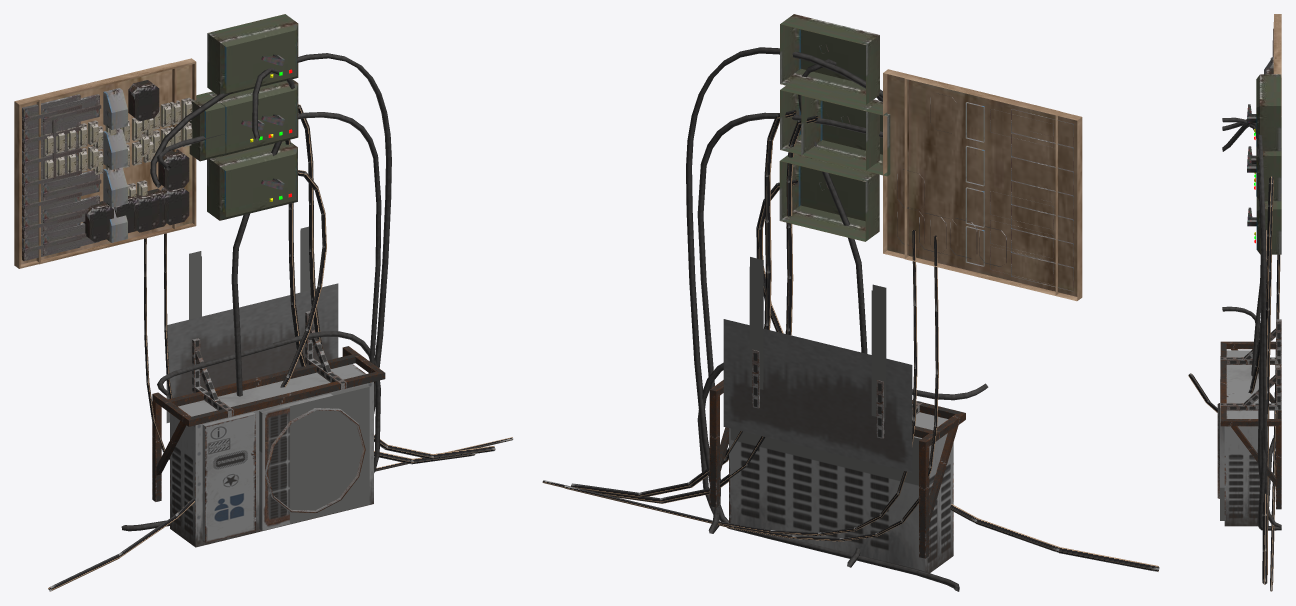
Rendered from weathered-parts.glb.
3 views of the same model, side by side, from view 1: azimuth 30°, elevation 25°; view 2: azimuth 150°, elevation 25°; view 3: azimuth 270°, elevation 25° (orthographic). The views are drawn at different scales.
Visible parts, largest first — view 1: meter_0, ac_0, meter_2, ac_8, ac_1, ac_4, acwire_2, ac_5, acwire_0, meter_1, acwire_1, acwire_3 (+1 smaller); view 2: meter_2, meter_0, ac_0, ac_1, acwire_2, acwire_0, ac_9, acwire_1, acwire_3; view 3: meter_0, ac_0, acwire_2, ac_1, meter_2, acwire_0, acwire_3, acwire_1, ac_8, ac_4.
Part boxes in pixels (x1,y1,x2,y2): meter_0: (35, 14, 513, 591); ac_0: (152, 283, 385, 547); meter_2: (14, 63, 475, 464); ac_8: (195, 382, 373, 547); ac_1: (170, 236, 373, 547); ac_4: (205, 408, 360, 542); acwire_2: (121, 53, 391, 531); ac_5: (189, 228, 365, 542); acwire_0: (157, 112, 381, 373); meter_1: (43, 80, 159, 197); acwire_1: (231, 68, 294, 396); acwire_3: (157, 331, 380, 472); meter_2: (564, 75, 1082, 541); meter_0: (542, 14, 1159, 571); ac_0: (709, 319, 965, 558); ac_1: (729, 267, 953, 572); acwire_2: (686, 47, 959, 591); acwire_0: (697, 112, 882, 533); ac_9: (750, 257, 885, 412); acwire_1: (798, 59, 882, 567); acwire_3: (697, 362, 988, 533); meter_0: (1188, 22, 1281, 591); ac_0: (1220, 341, 1281, 526); acwire_2: (1222, 119, 1273, 525); ac_1: (1220, 319, 1281, 418); meter_2: (1247, 14, 1281, 582); acwire_0: (1222, 117, 1281, 528); acwire_3: (1222, 306, 1281, 530); acwire_1: (1222, 123, 1272, 472); ac_8: (1220, 379, 1224, 520); ac_4: (1217, 356, 1220, 498).
Size of the model in its own units: 2.75 by 2.46 by 0.5238.
2 materials, 2 textured.
